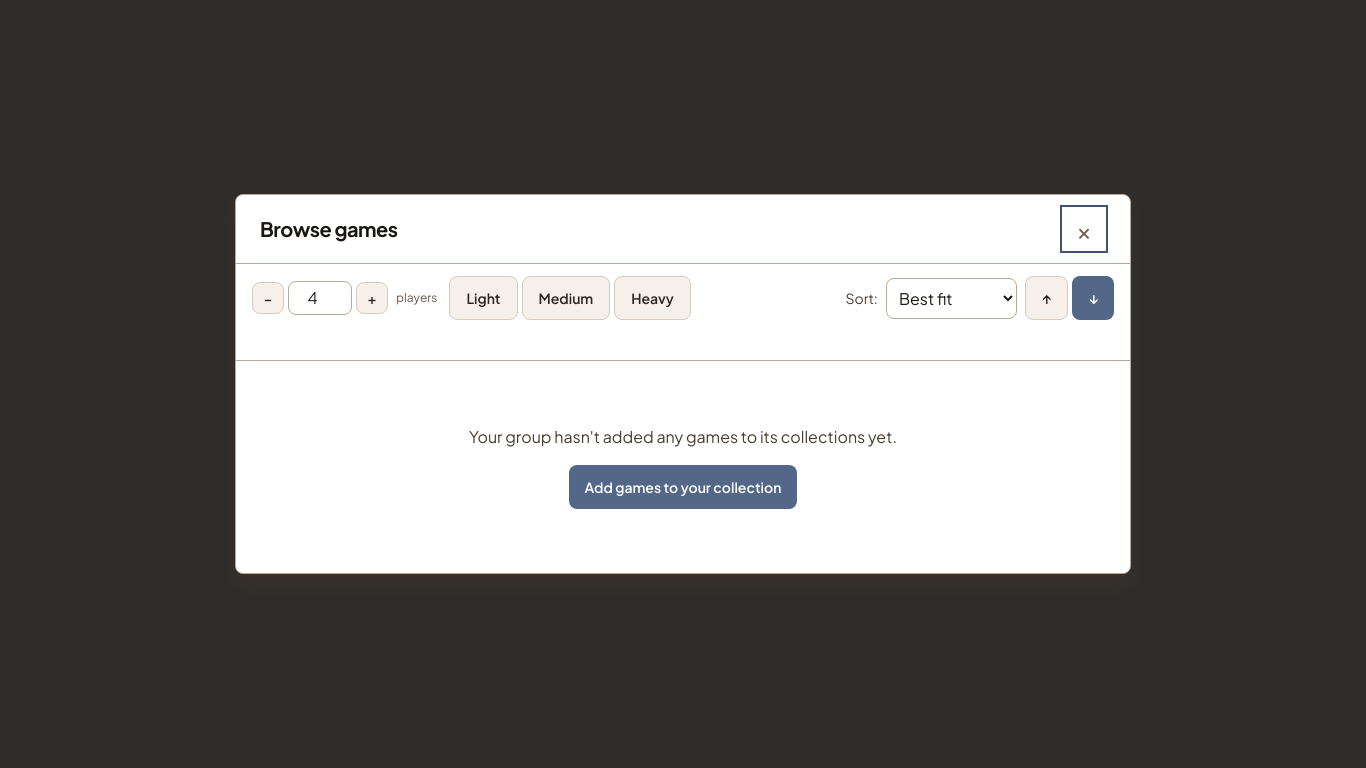
Test: BrowseMoreModal refresh keeps the list (88.6.1-32, D-09, D-41, AC-27, E8) › F: a settled empty state stays as the same node while a refresh is in flight
Check: the link "Add games to your collection" is shown, box [569,465,797,509]
Click the button named "Increase player count": [372, 298] box [356,282,388,314]
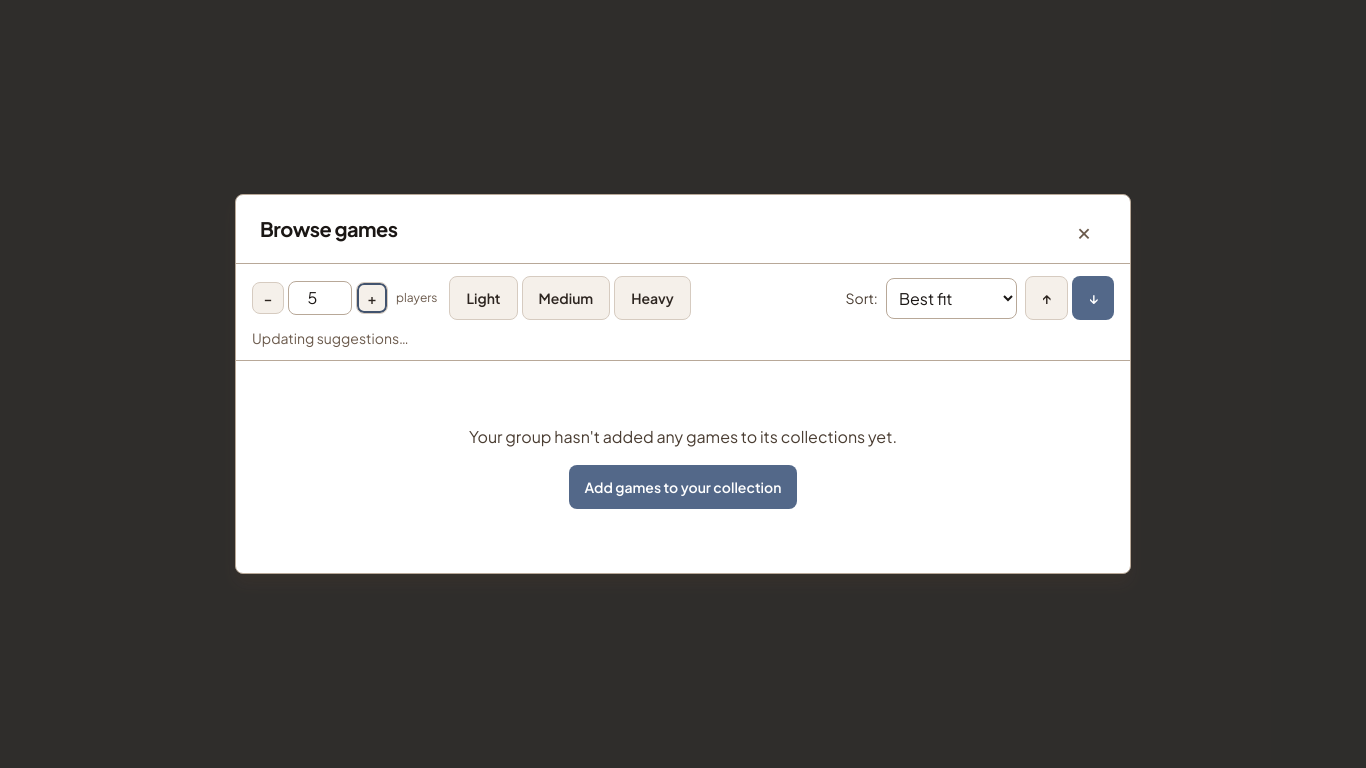
Check: the message reads "Updating suggestions…", box [252,329,409,347]
